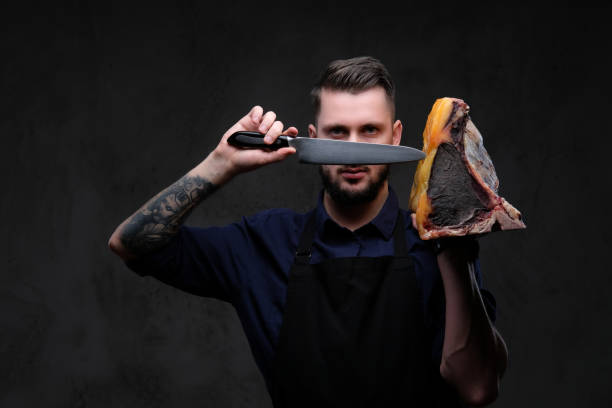knife: (227, 132, 426, 167)
